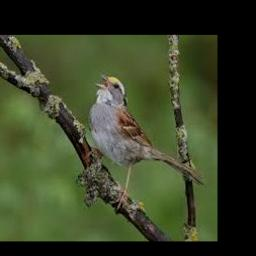Sparrow: (88, 73, 203, 212)
